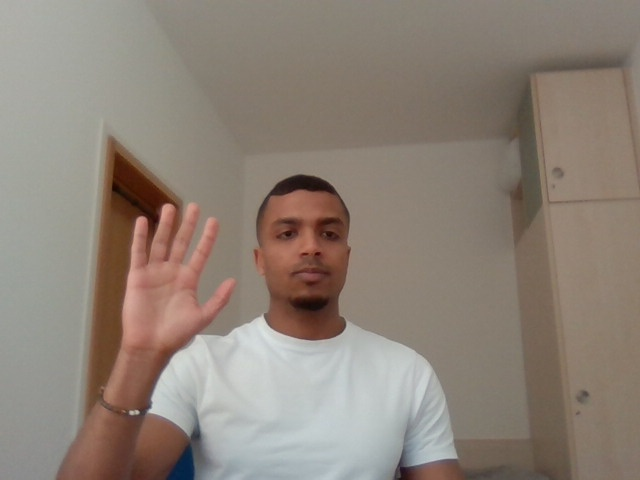hello: (113, 189, 246, 373)
